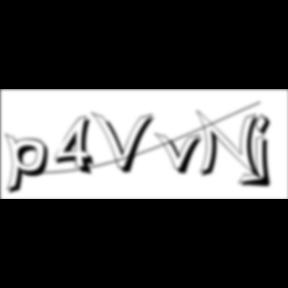4: (54, 115, 101, 179)
N: (196, 109, 266, 183)
V: (92, 110, 158, 176)
j: (252, 113, 278, 191)
p: (5, 132, 55, 198)
v: (155, 131, 209, 177)
